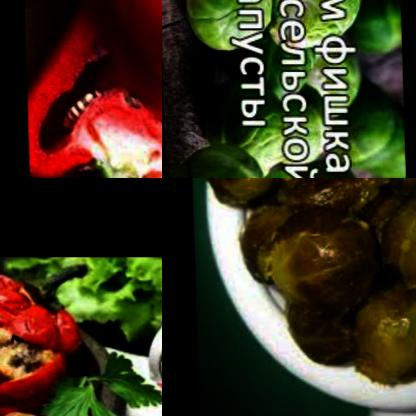bell pepper: (24, 0, 162, 178), (43, 0, 162, 96), (0, 257, 93, 342), (0, 319, 67, 416)
brus capusta: (207, 178, 416, 375), (311, 92, 401, 178), (261, 37, 369, 106), (195, 102, 289, 178), (186, 0, 277, 56), (286, 0, 367, 43), (355, 0, 401, 45), (196, 153, 269, 178), (273, 162, 368, 178), (164, 159, 225, 178)
salad: (2, 255, 162, 331)
